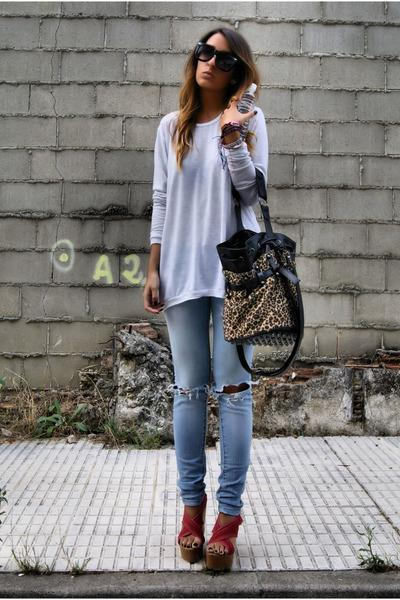bag: (217, 168, 303, 393)
pants: (157, 292, 254, 516)
shirt: (150, 104, 283, 305)
shoe: (178, 516, 242, 566)
sunglass: (192, 29, 226, 59)
